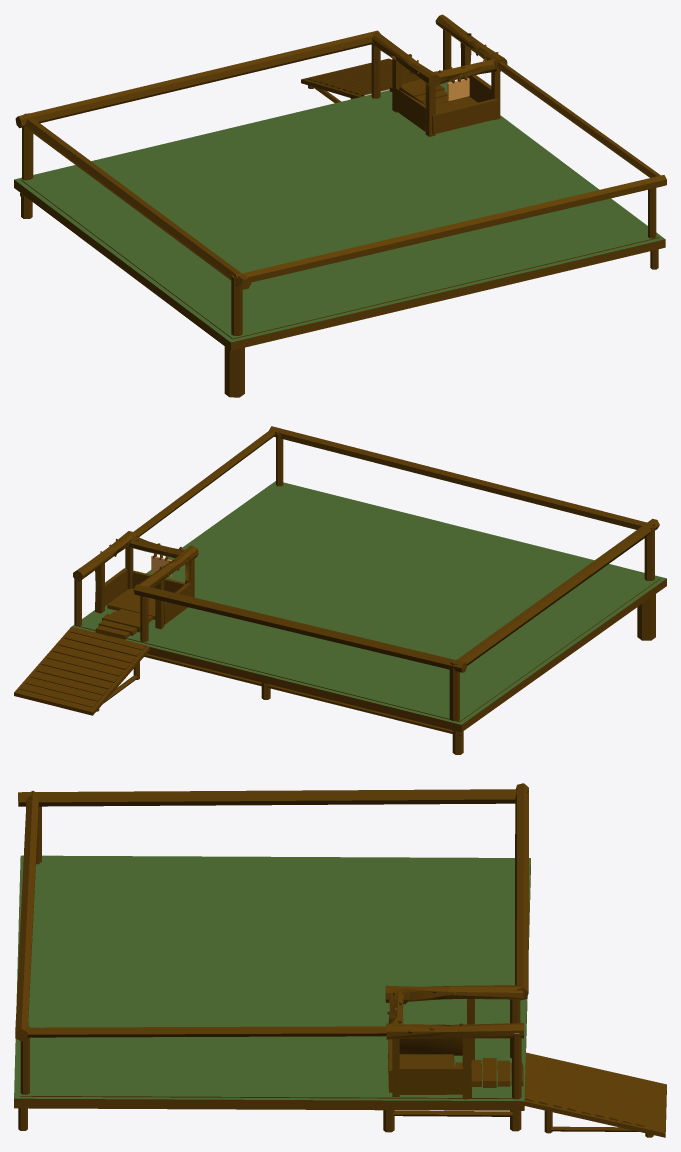
Rendered from HabitatBorders.fbx.
3 views of the same model, one above another, from view 1: azimuth 30°, elevation 25°; view 2: azimuth 150°, elevation 25°; view 3: azimuth 270°, elevation 25° (orthographic). The views are drawn at different scales.
Parts seen in each view (by area): view 1: HabitatBorder; view 2: HabitatBorder; view 3: HabitatBorder.
Part boxes in pixels (x1=…): HabitatBorder: x1=14, y1=14, x2=666, y2=397; HabitatBorder: x1=14, y1=426, x2=666, y2=754; HabitatBorder: x1=14, y1=783, x2=666, y2=1137.
Size of the model in its own units: 6213 by 1716 by 6963.
